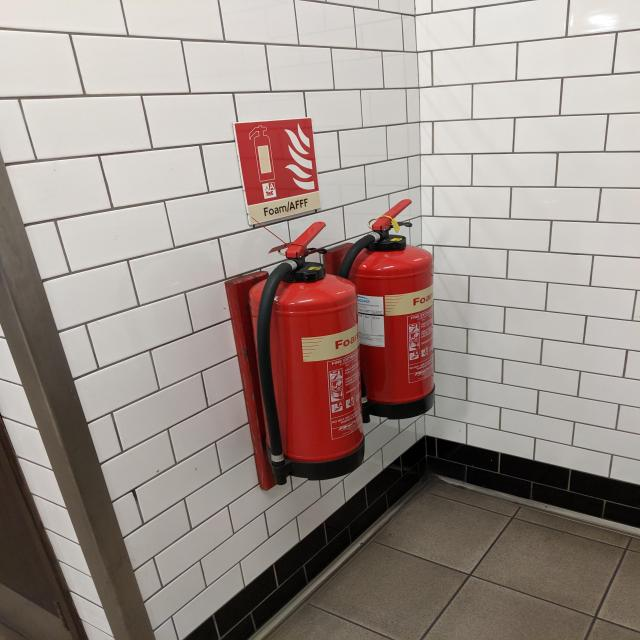fire_extinguisher: (242, 219, 369, 490), (322, 194, 441, 421)
